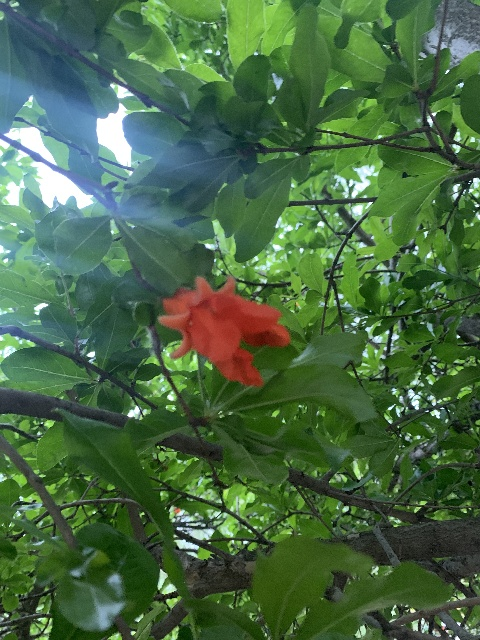flower: (157, 273, 291, 387), (173, 507, 180, 513)
